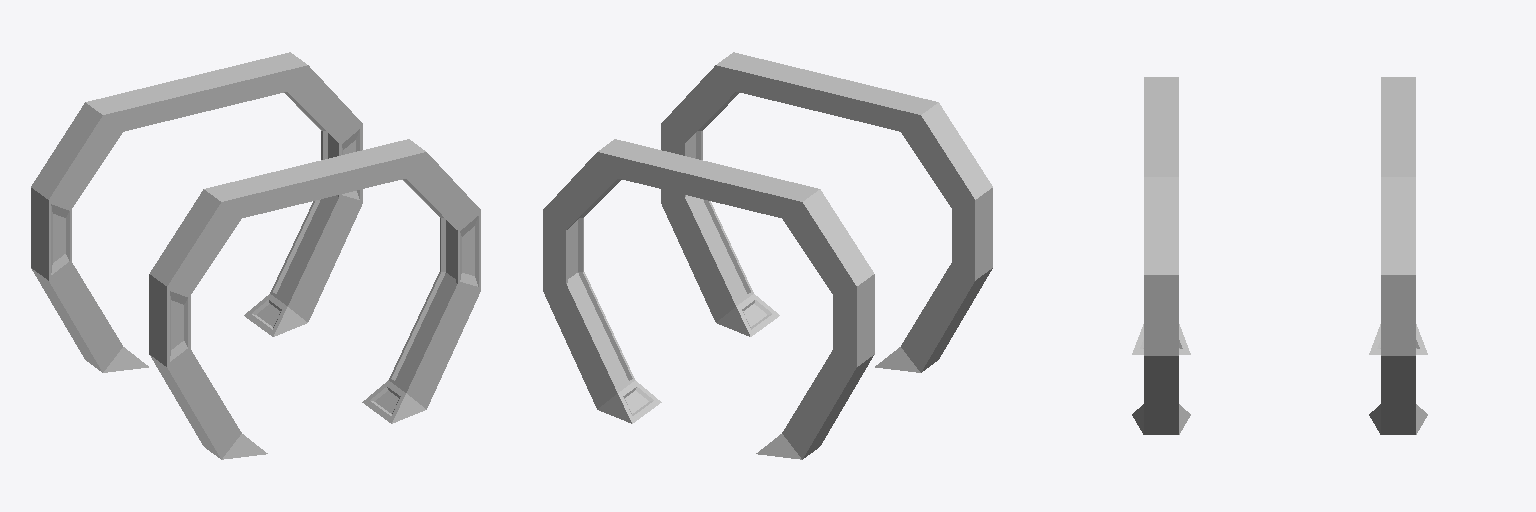
File: cor_pilars.obj
3 views of the same model, side by side, from view 1: azimuth 30°, elevation 25°; view 2: azimuth 150°, elevation 25°; view 3: azimuth 270°, elevation 25° (orthographic).
Visible parts, largest first — view 1: pilars_Plane; view 2: pilars_Plane; view 3: pilars_Plane.
Part boxes in pixels (bbox=[...]): pilars_Plane: bbox=[31, 52, 480, 459]; pilars_Plane: bbox=[543, 52, 992, 459]; pilars_Plane: bbox=[1132, 77, 1427, 434].
Size of the model in its own units: 3.06 by 2.4 by 2.5.